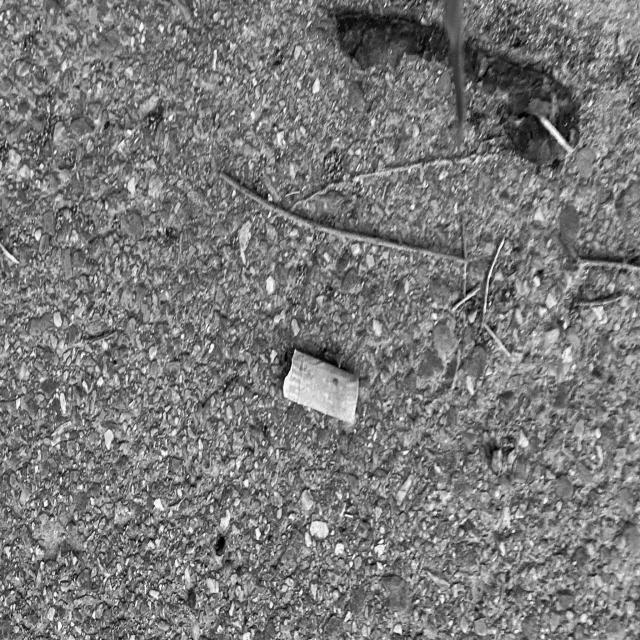other waste: (282, 347, 359, 425)
